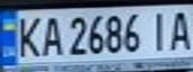2: (63, 12, 87, 56)
6: (121, 10, 148, 54), (84, 11, 109, 56)
8: (103, 11, 127, 55)
A: (166, 7, 193, 52), (39, 12, 66, 57)
I: (145, 8, 172, 53)
K: (12, 12, 45, 59)
